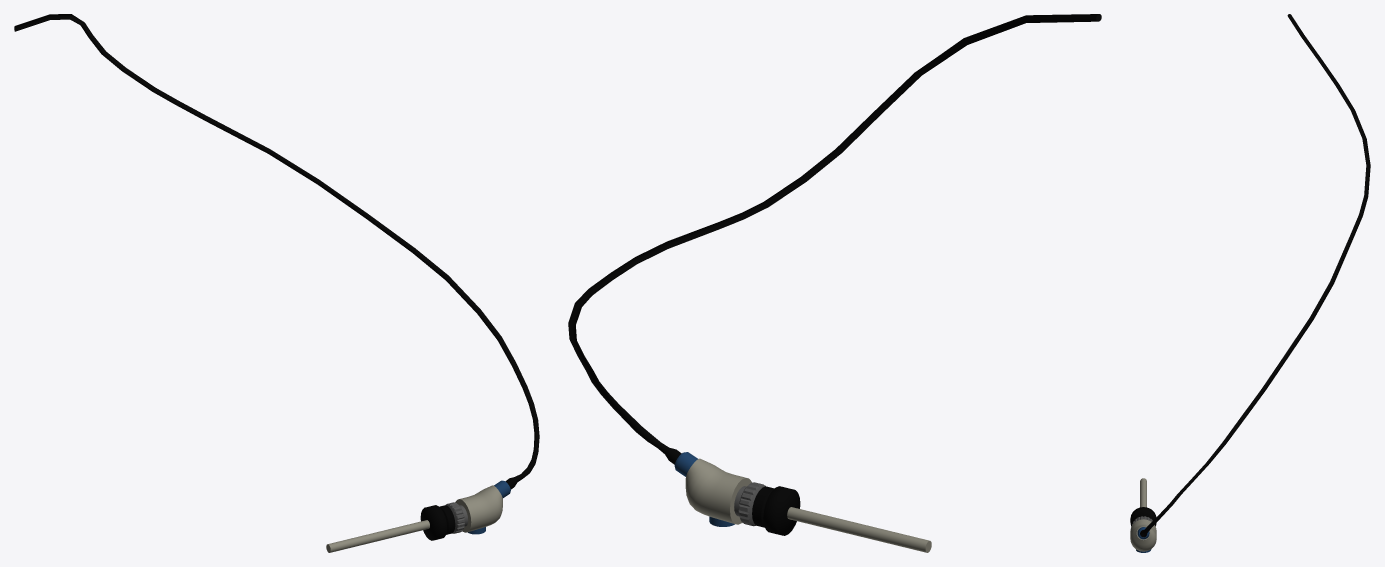
Rendered from camera_endo.fbx.
3 views of the same model, side by side, from view 1: azimuth 30°, elevation 25°; view 2: azimuth 150°, elevation 25°; view 3: azimuth 270°, elevation 25° (orthographic). The views are drawn at different scales.
Visible parts, largest first — view 1: pCylinder178, pCylinder181, pCylinder180; view 2: pCylinder178, pCylinder181, pCylinder180; view 3: pCylinder178, pCylinder181.
Part boxes in pixels (left/top/right/bottom): pCylinder178: left=14, top=14, right=539, bottom=489; pCylinder181: left=420, top=480, right=510, bottom=540; pCylinder180: left=326, top=520, right=429, bottom=552; pCylinder178: left=568, top=14, right=1101, bottom=464; pCylinder181: left=674, top=452, right=800, bottom=535; pCylinder180: left=787, top=507, right=931, bottom=552; pCylinder178: left=1140, top=14, right=1370, bottom=537; pCylinder181: left=1130, top=507, right=1156, bottom=552.
Size of the model in its own units: 502 by 567 by 309.
